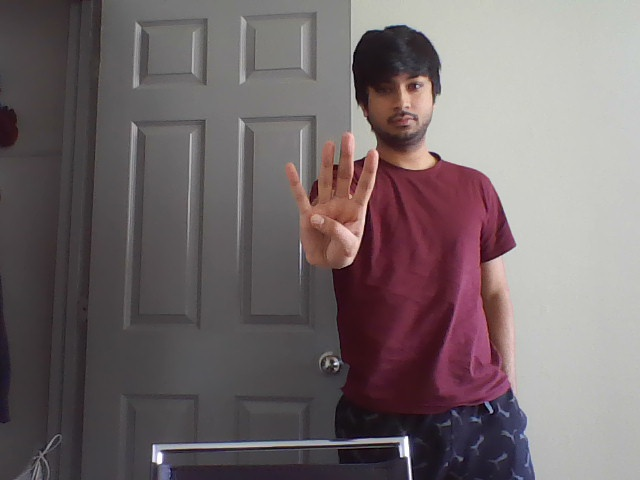four: (279, 129, 385, 218)
